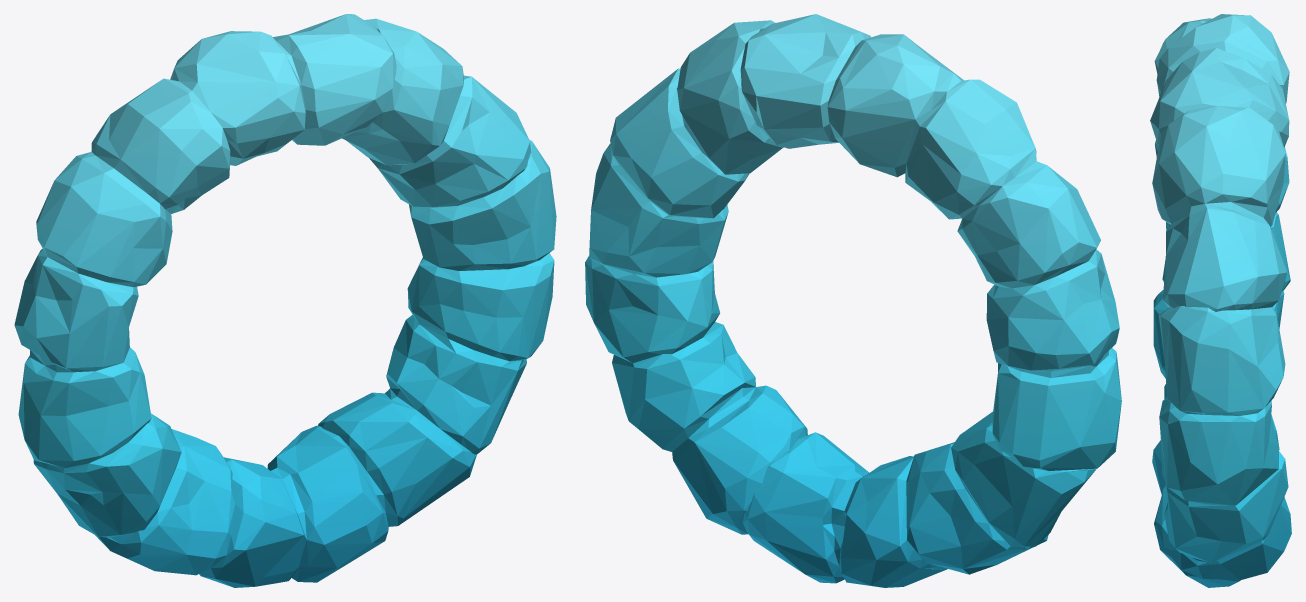
The model's file is checkpoint_001.fbx.
3 renders of one model, left to right at view 1: azimuth 30°, elevation 25°; view 2: azimuth 150°, elevation 25°; view 3: azimuth 270°, elevation 25°, orthographic. The views are drawn at different scales.
Parts seen in each view (by area): view 1: checkpoint_001; view 2: checkpoint_001; view 3: checkpoint_001.
Boxes of the visible parts, left/top/right/bottom form: checkpoint_001: left=14, top=14, right=556, bottom=587; checkpoint_001: left=585, top=14, right=1121, bottom=587; checkpoint_001: left=1150, top=14, right=1291, bottom=587.
Bounding box in the file's own units: 1284 × 319 × 1317.
